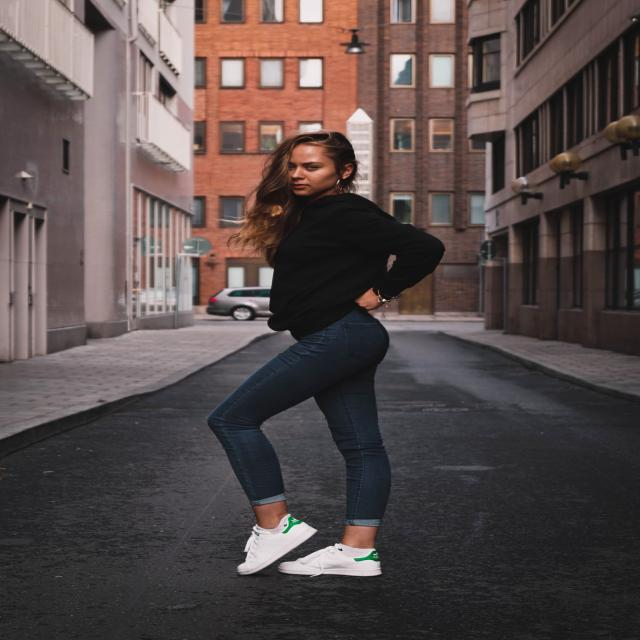adult: (213, 134, 440, 584)
